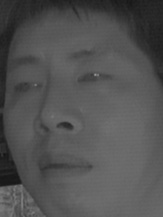eye: (74, 67, 116, 89), (14, 75, 43, 99)
mouth: (34, 150, 96, 187)
